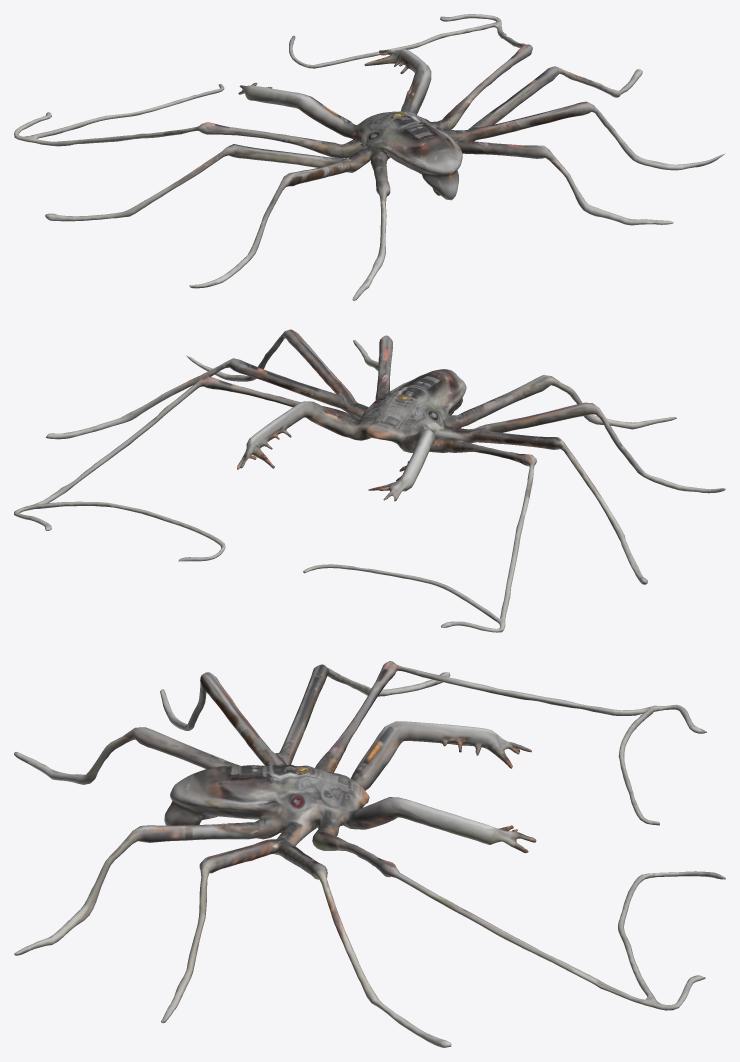
Rendered from Whip_Spider_Majesty_1019103607_texture.fbx.
3 renders of one model, top to bottom at view 1: azimuth 30°, elevation 25°; view 2: azimuth 150°, elevation 25°; view 3: azimuth 270°, elevation 25°, orthographic. The views are drawn at different scales.
Parts seen in each view (by area): view 1: Mesh1.0; view 2: Mesh1.0; view 3: Mesh1.0.
Part boxes in pixels (x1,y1,x2,y2): Mesh1.0: [14, 14, 725, 300]; Mesh1.0: [14, 329, 725, 632]; Mesh1.0: [14, 661, 725, 1047].
Size of the model in its own units: 200 by 26.42 by 161.
Materials: 1 (1 with a texture image).
